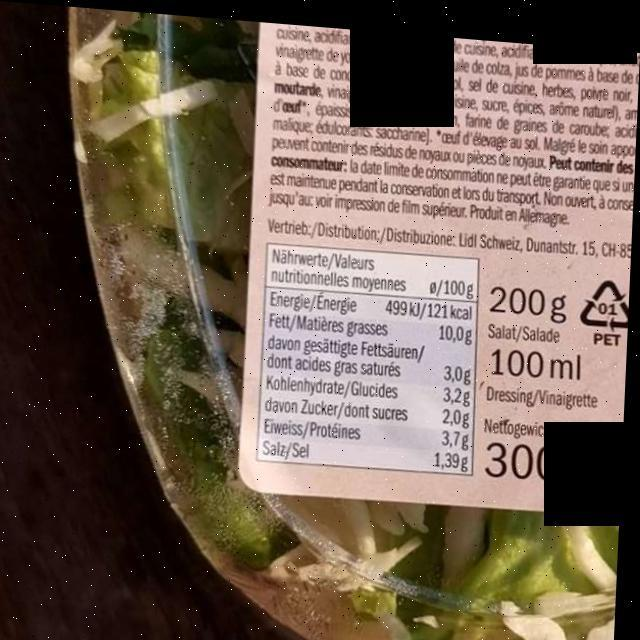salad: (128, 44, 597, 640)
